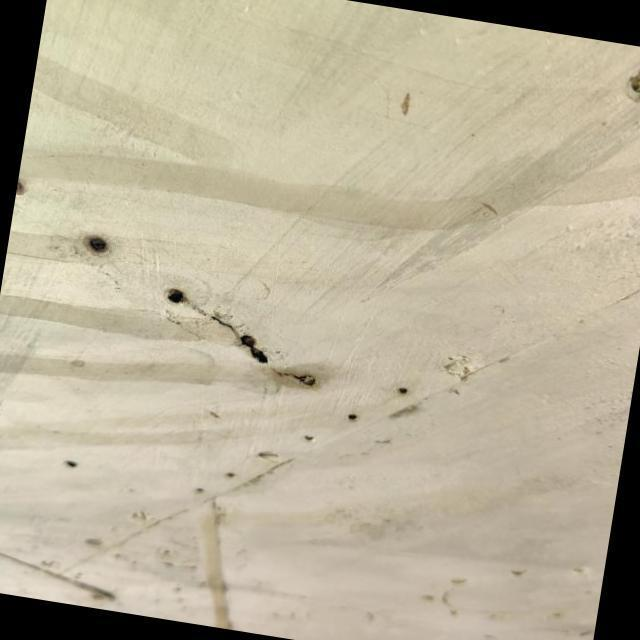Rupture: (132, 265, 346, 414)
